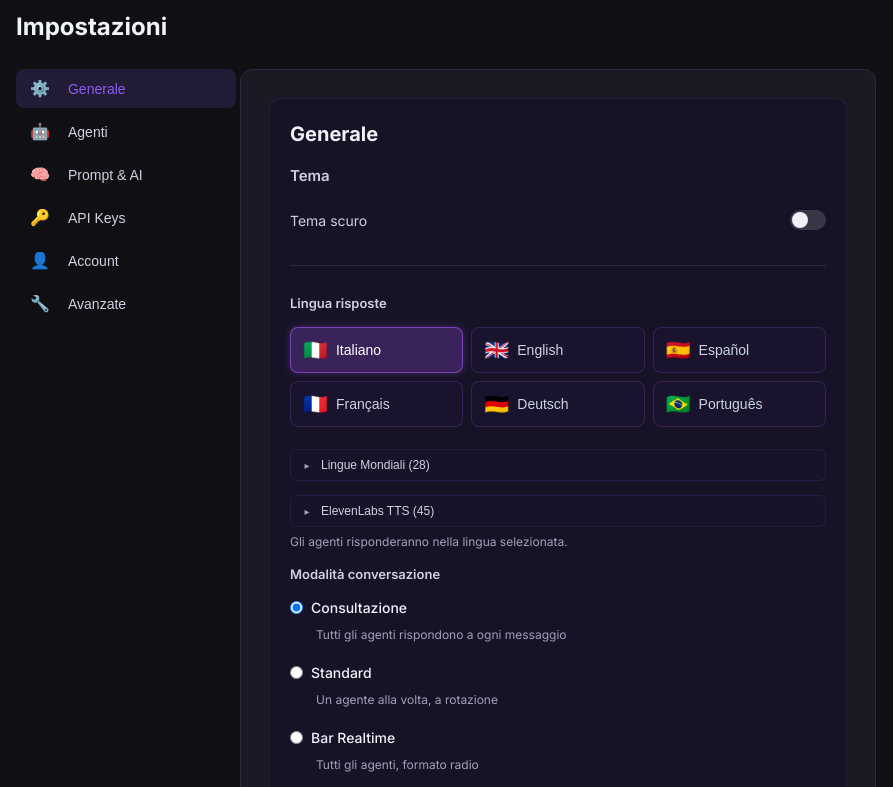
SettingsPage › renders API keys info box
This screenshot has width=893, height=787.
Check: the heading "Tema" is shown, box [290,166,330,185]
Click the tab "🔑 API Keys".
click(126, 218)  # box [16,198,236,237]
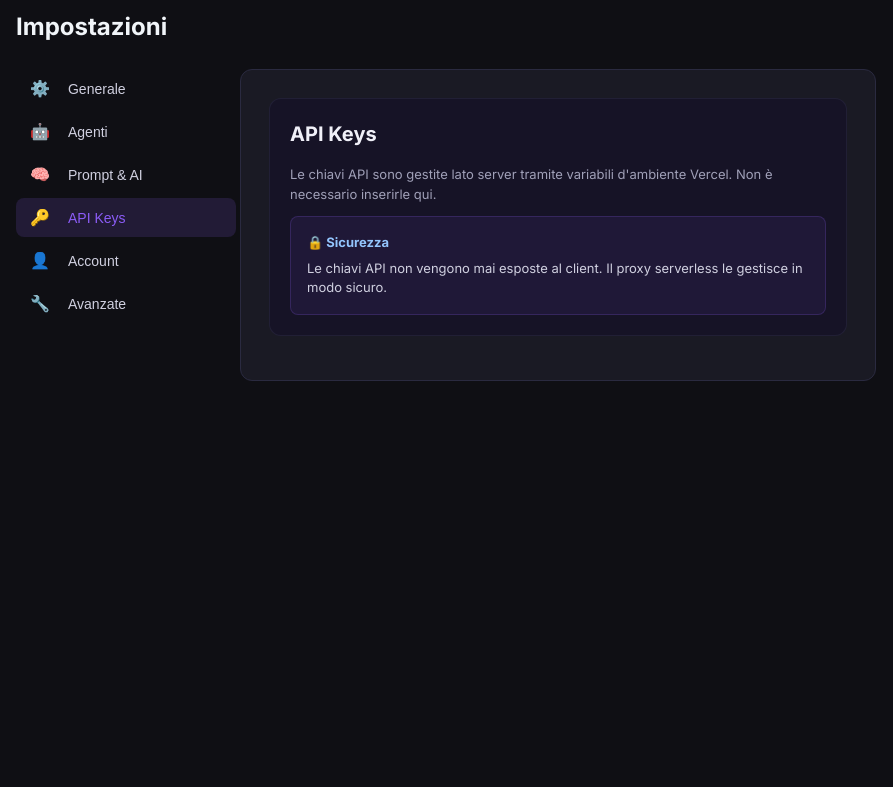
Check: the text "🔒 Sicurezza" is shown, box [307,234,389,250]
